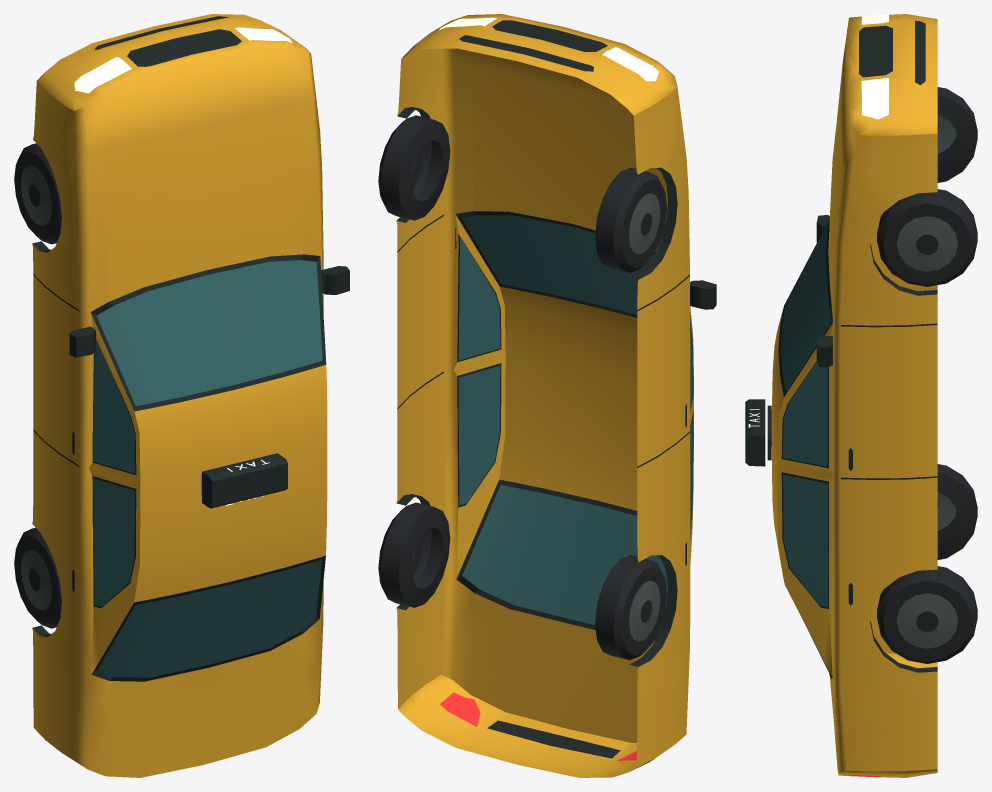
The model's file is nyc-taxi.glb.
The picture shows the model from 3 angles, left to right: view 1: azimuth 30°, elevation 25°; view 2: azimuth 150°, elevation 25°; view 3: azimuth 270°, elevation 25°; orthographic projection. The views are drawn at different scales.
Visible parts, largest first — view 1: BODY, GLASS, WHEEL_FL, WHEEL_RL, TAXI_SIGN, FRONT_LIGHTS; view 2: BODY, GLASS, WHEEL_FR, WHEEL_RR, WHEEL_FL, WHEEL_RL, FRONT_LIGHTS, REAR_LIGHTS; view 3: BODY, GLASS, WHEEL_FR, WHEEL_RR, WHEEL_FL, WHEEL_RL, TAXI_SIGN, FRONT_LIGHTS.
Boxes of the visible parts, x1,y1,x2,y2 form: BODY: (32, 14, 349, 777); GLASS: (93, 260, 322, 677); WHEEL_FL: (14, 143, 61, 244); WHEEL_RL: (14, 527, 61, 628); TAXI_SIGN: (201, 453, 287, 508); FRONT_LIGHTS: (74, 27, 292, 93); BODY: (396, 14, 716, 777); GLASS: (458, 215, 693, 634); WHEEL_FR: (378, 115, 450, 220); WHEEL_RR: (378, 502, 450, 607); WHEEL_FL: (595, 167, 666, 272); WHEEL_RL: (595, 555, 666, 660); FRONT_LIGHTS: (439, 17, 658, 81); REAR_LIGHTS: (440, 692, 636, 760); BODY: (771, 14, 937, 777); GLASS: (780, 220, 830, 673); WHEEL_FR: (877, 189, 977, 286); WHEEL_RR: (877, 566, 977, 663); WHEEL_FL: (937, 87, 977, 182); WHEEL_RL: (937, 464, 977, 559); TAXI_SIGN: (745, 399, 771, 466); FRONT_LIGHTS: (861, 14, 888, 119).
Bounding box in the file's own units: 2.2 × 5.39 × 1.63.
